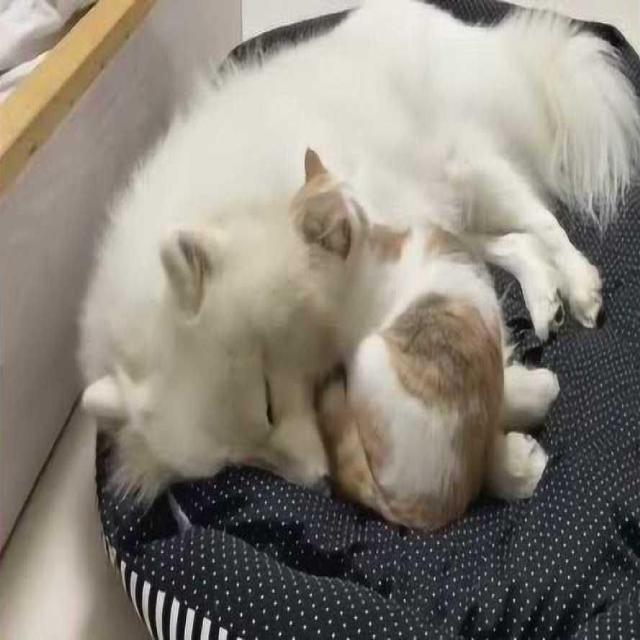cat: (280, 163, 531, 530)
dog: (84, 224, 328, 574)
